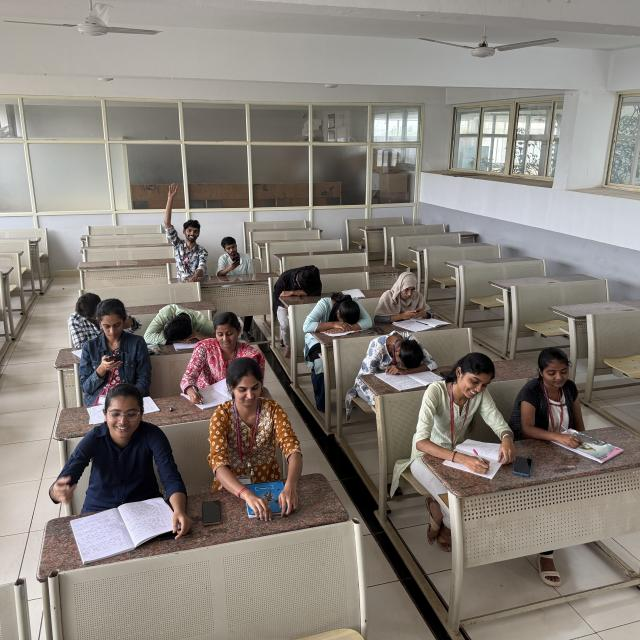Hand Rising: (156, 179, 208, 279)
Reading: (48, 383, 186, 550)
Sleeping: (359, 329, 440, 378), (144, 294, 212, 346), (300, 294, 372, 334), (274, 260, 328, 299)
Using Phone: (77, 302, 155, 398), (378, 267, 442, 323), (215, 234, 254, 278)
Writing: (417, 351, 520, 477), (516, 343, 604, 454), (183, 309, 270, 404)
